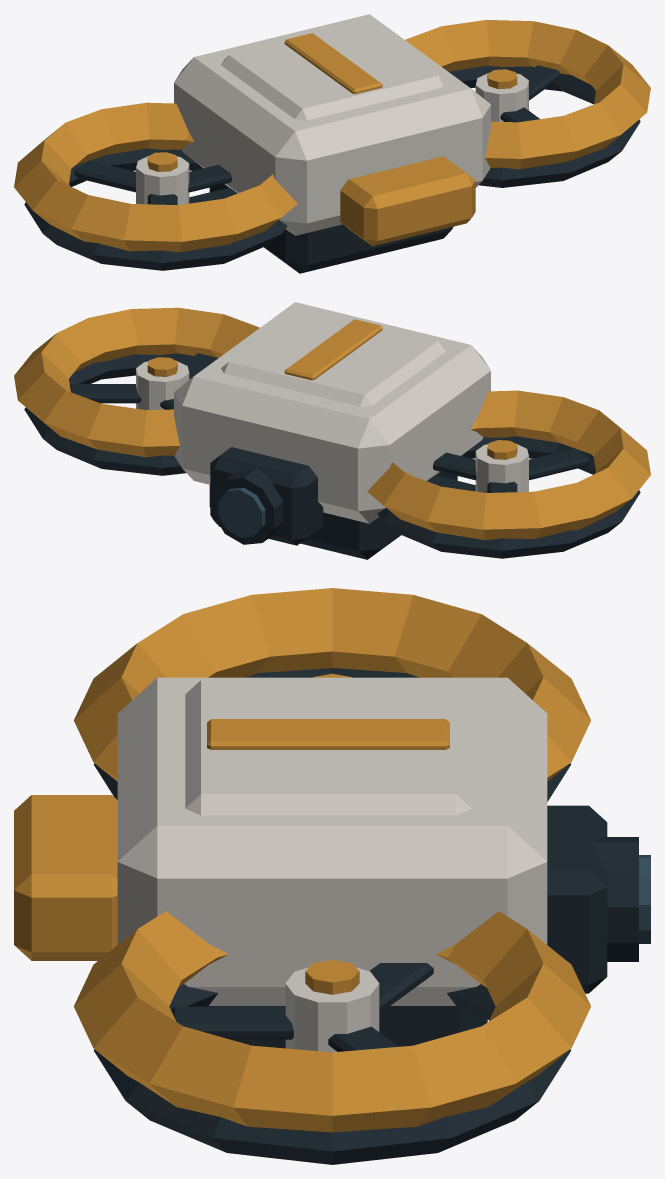
File: buzzer-drone.glb
The picture shows the model from 3 angles, top to bottom: view 1: azimuth 30°, elevation 25°; view 2: azimuth 150°, elevation 25°; view 3: azimuth 270°, elevation 25°; orthographic projection. The views are drawn at different scales.
Parts seen in each view (by area): view 1: buzzer-drone; view 2: buzzer-drone; view 3: buzzer-drone.
Part boxes in pixels (left/top/right/bottom): buzzer-drone: left=14, top=14, right=650, bottom=273; buzzer-drone: left=14, top=302, right=650, bottom=559; buzzer-drone: left=14, top=588, right=650, bottom=1164.
Bounding box in the file's own units: 1.5 × 0.4 × 0.8.
